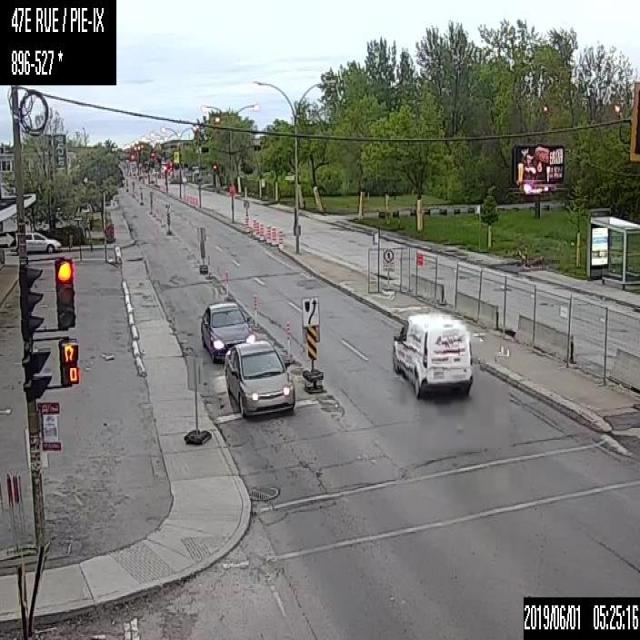construction: (285, 320, 293, 363), (102, 221, 114, 243), (252, 293, 258, 329), (224, 269, 229, 299), (277, 229, 283, 248), (259, 222, 264, 241), (265, 224, 270, 243), (253, 218, 258, 236), (271, 227, 276, 245)
vehicle: (389, 309, 472, 395), (225, 340, 294, 418), (200, 302, 256, 363), (25, 229, 60, 255)
